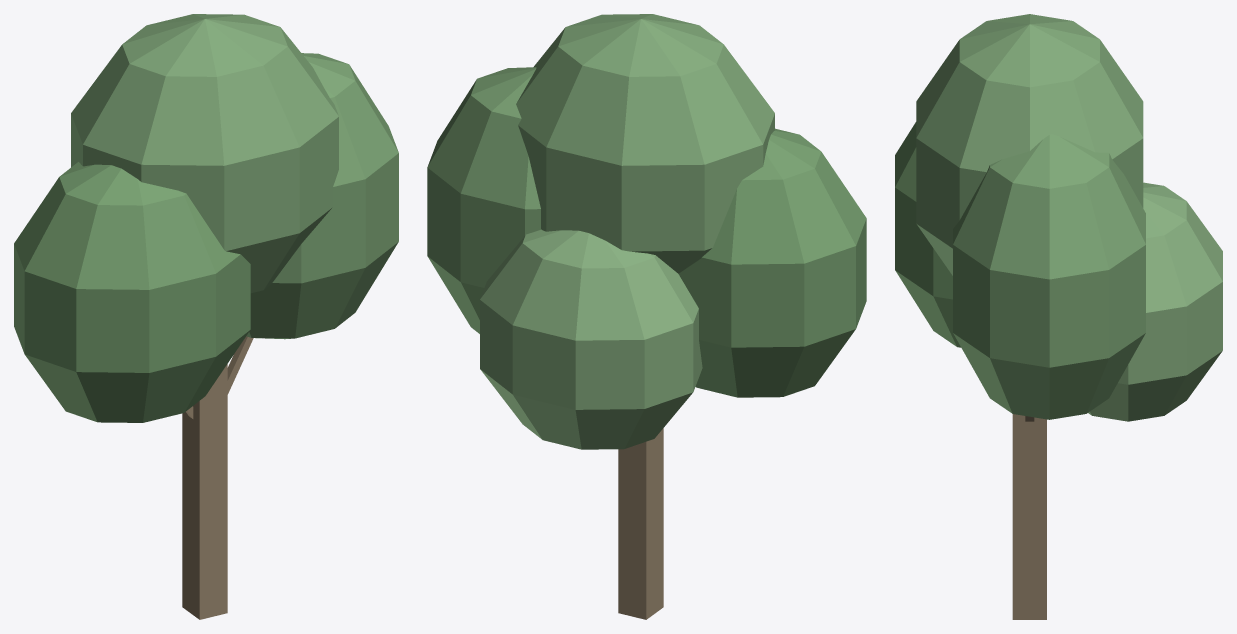
3 views of the same model, side by side, from view 1: azimuth 30°, elevation 25°; view 2: azimuth 150°, elevation 25°; view 3: azimuth 270°, elevation 25° (orthographic).
Size of the model in its own units: 9.15 by 13.2 by 6.66.
